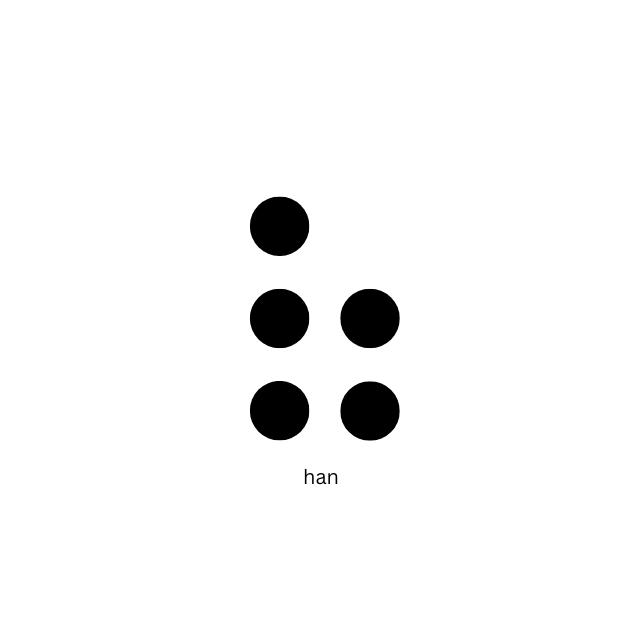one_cell_part_word_han: (251, 195, 401, 442)
